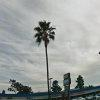Palm tree: (30, 14, 61, 79)
